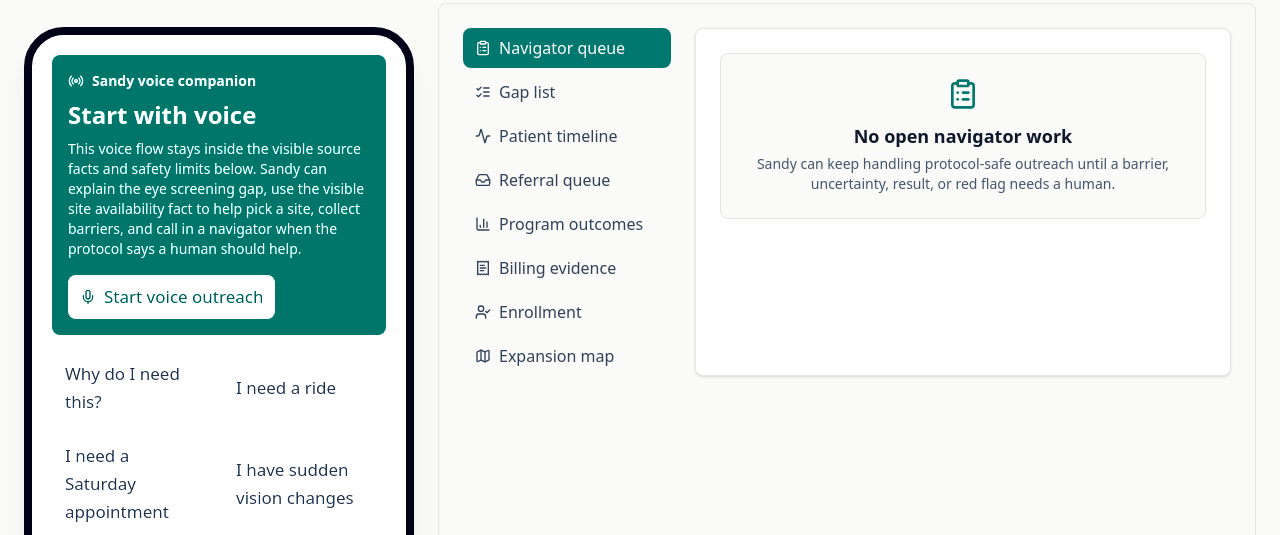
SideBySide integration › a voice red flag appears as urgent navigator work
Click the button "Start voice outreach". click: point(172, 297)
box: [68,275,276,319]
(page scrolled)
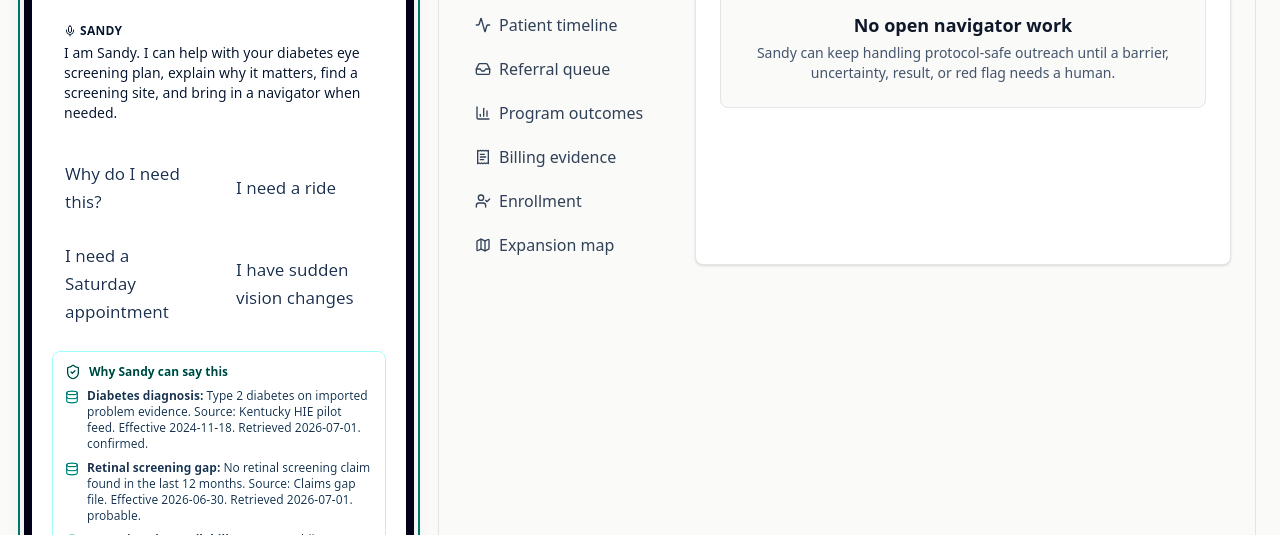
Click the button "I have sudden vision changes". click: point(304, 284)
box: [223,233,386,335]
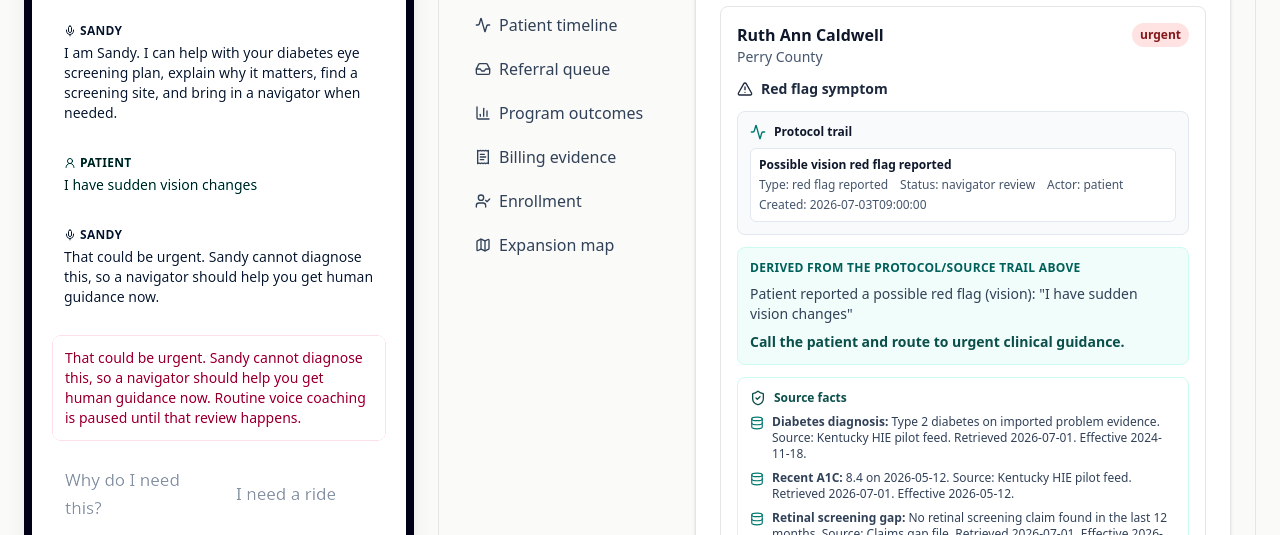
expect the text "Red flag symptom" is shown: met, box [737,79,888,98]
